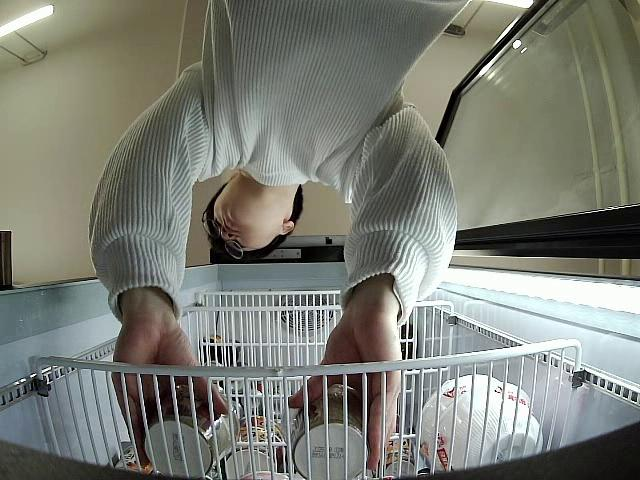00_hand: (291, 293, 404, 468), (110, 297, 230, 458)
04_chapagetti_S: (146, 387, 239, 474), (287, 388, 371, 480)
